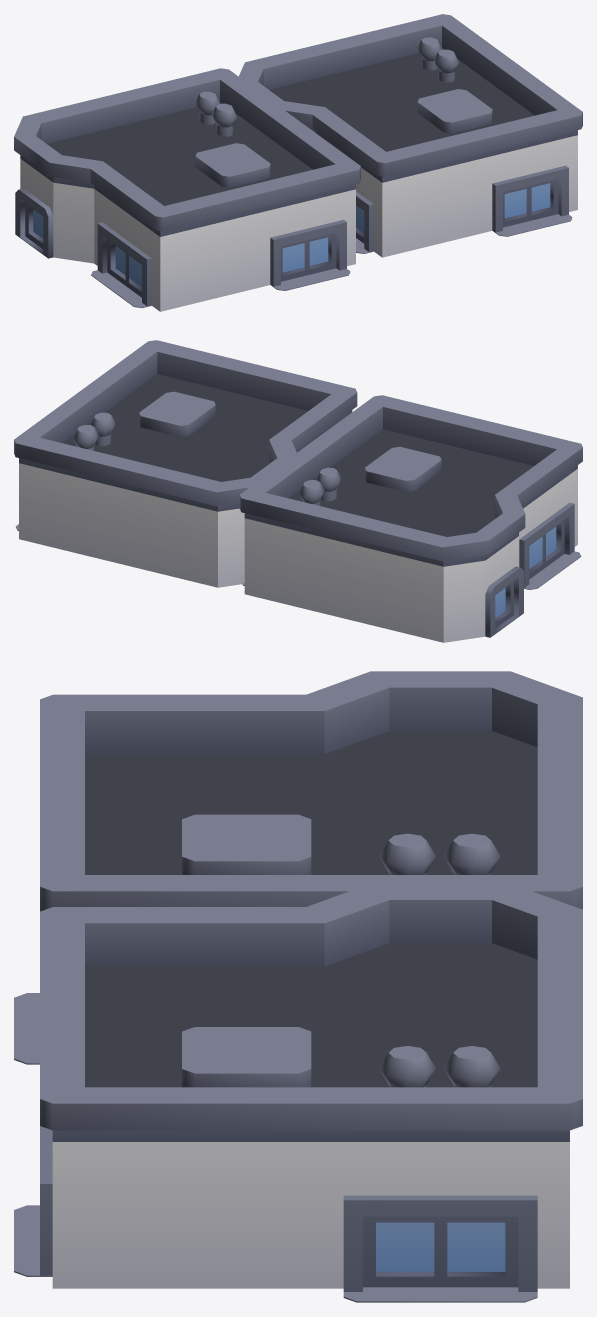
Rendered from commercial-e.glb.
The picture shows the model from 3 angles, top to bottom: view 1: azimuth 30°, elevation 25°; view 2: azimuth 150°, elevation 25°; view 3: azimuth 270°, elevation 25°; orthographic projection. The views are drawn at different scales.
Visible parts, largest first — view 1: building-e; view 2: building-e; view 3: building-e.
Boxes of the visible parts, box(x1,y1,x2,y2) form: building-e: box(14, 14, 582, 311); building-e: box(14, 340, 582, 642); building-e: box(14, 671, 582, 1302).
Size of the model in its own units: 12.81 by 2.66 by 6.98.
Materials: 1 (1 with a texture image).
